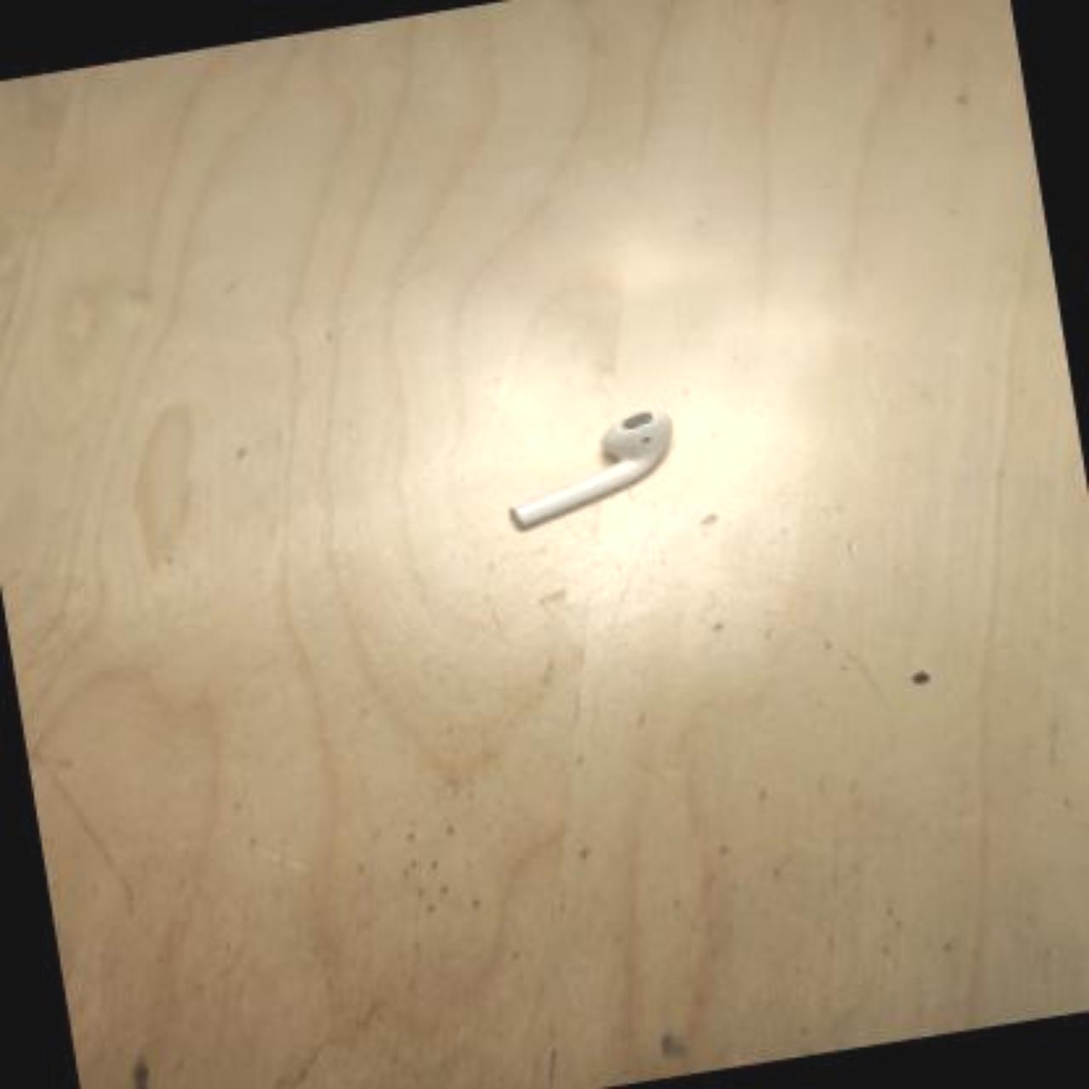Airpods_Units: (494, 406, 687, 531)
